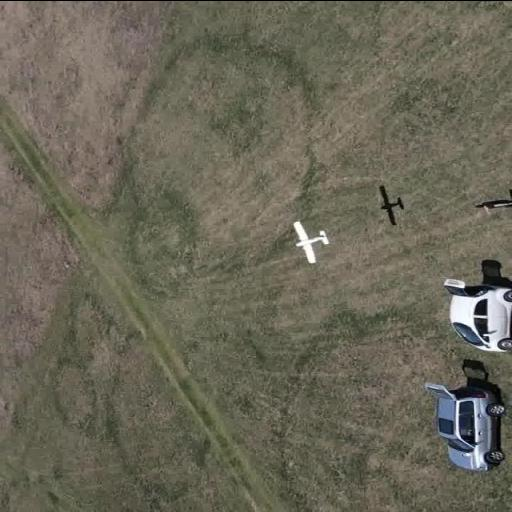uav: (290, 218, 334, 268)
